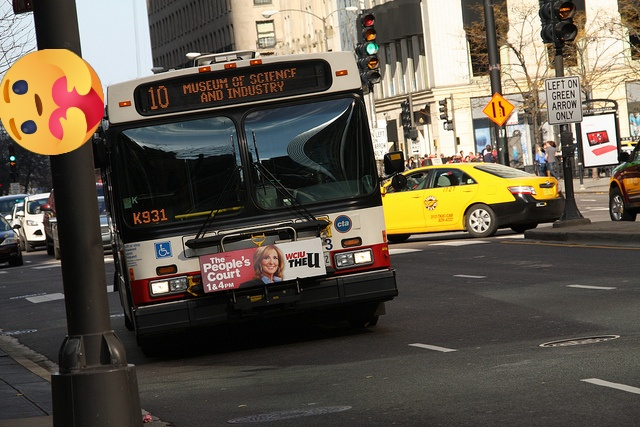care: (0, 49, 104, 155)
